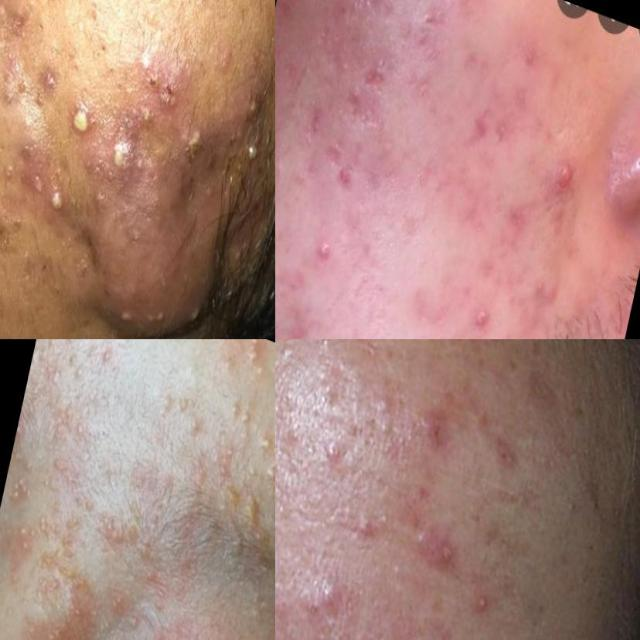acne_scars: (352, 41, 409, 106), (458, 98, 514, 163), (328, 148, 368, 196), (499, 193, 539, 239)
comedone: (342, 494, 392, 554), (363, 388, 404, 448), (251, 419, 275, 494), (380, 549, 414, 593), (313, 339, 346, 373)
cystic: (106, 130, 135, 190)
papule: (406, 394, 470, 476), (541, 142, 591, 204), (330, 75, 370, 125), (318, 576, 356, 623)
pustule: (449, 569, 524, 640), (42, 172, 84, 238), (302, 222, 342, 280), (64, 94, 101, 148), (234, 82, 267, 136), (4, 467, 38, 512), (467, 300, 497, 338), (246, 140, 256, 170)
sebo-crystan-conglo: (80, 139, 240, 339), (406, 509, 481, 585)
